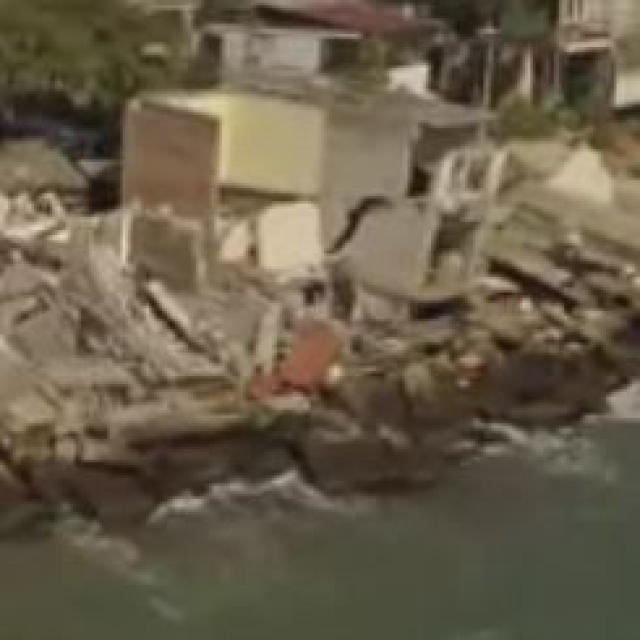collapsed_building: (126, 92, 476, 394)
